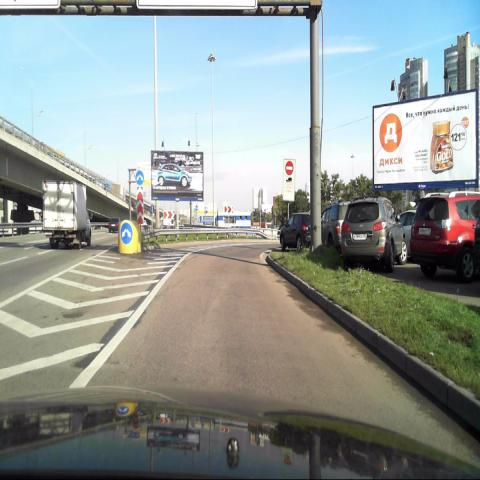4_2_3: (120, 220, 133, 246), (135, 170, 144, 186)
